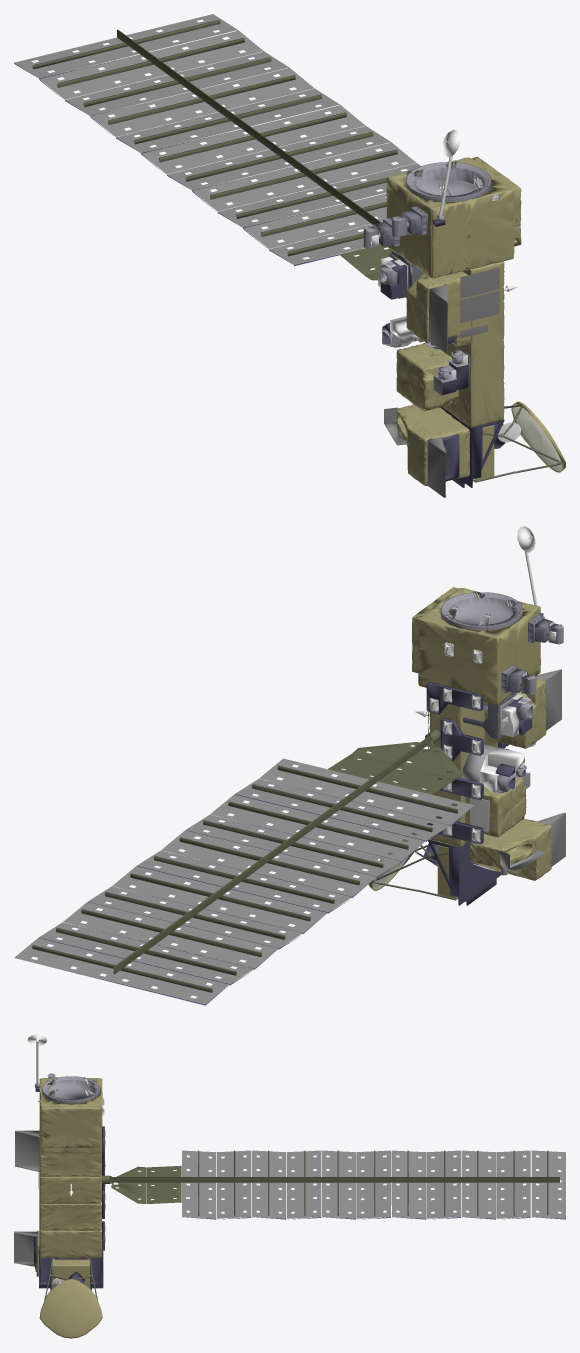
File: space-aqua.glb
3 views of the same model, one above another, from view 1: azimuth 30°, elevation 25°; view 2: azimuth 150°, elevation 25°; view 3: azimuth 270°, elevation 25° (orthographic). The views are drawn at different scales.
Visible parts, largest first — view 1: Aqua_Reduced_v0014 [Aqua_Layered_02 [(unnamed)]]; view 2: Aqua_Reduced_v0014 [Aqua_Layered_02 [(unnamed)]]; view 3: Aqua_Reduced_v0014 [Aqua_Layered_02 [(unnamed)]].
Boxes of the visible parts, box(x1,y1,x2,y2) form: Aqua_Reduced_v0014 [Aqua_Layered_02 [(unnamed)]]: box(14, 14, 565, 497); Aqua_Reduced_v0014 [Aqua_Layered_02 [(unnamed)]]: box(14, 526, 565, 1005); Aqua_Reduced_v0014 [Aqua_Layered_02 [(unnamed)]]: box(14, 1034, 565, 1338).
Bounding box in the file's own units: 124 × 230 × 434.
2 materials, 2 textured.
